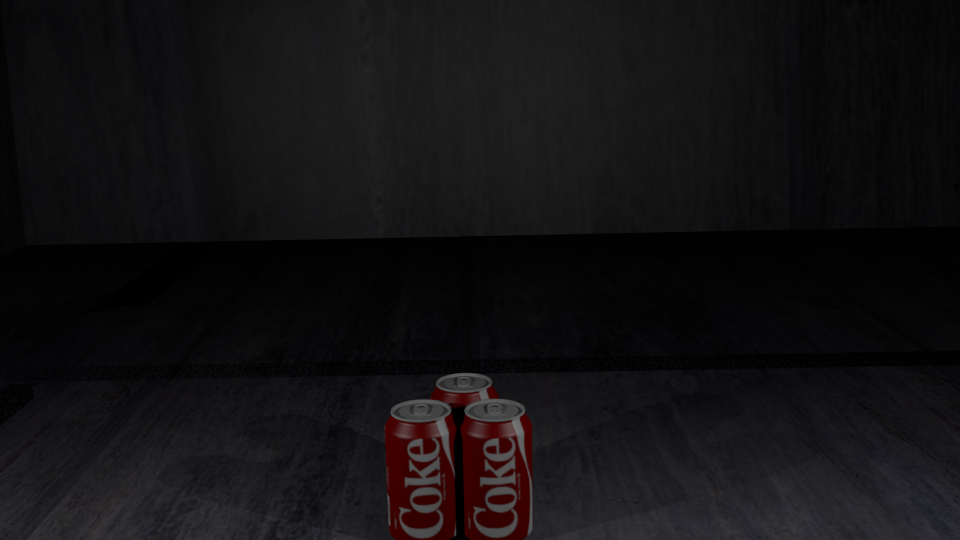cola_can: (385, 400, 459, 539), (459, 399, 531, 539), (431, 373, 497, 505)
